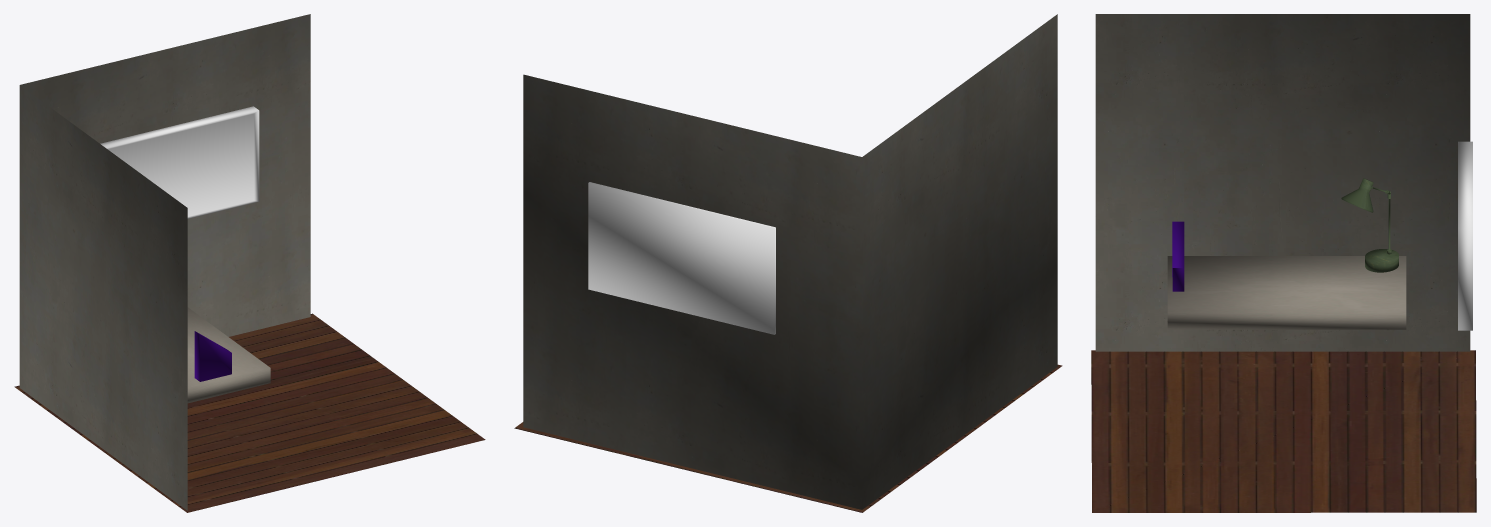
Rendered from world_scene.glb.
3 renders of one model, left to right at view 1: azimuth 30°, elevation 25°; view 2: azimuth 150°, elevation 25°; view 3: azimuth 270°, elevation 25°, orthographic. The views are drawn at different scales.
Parts seen in each view (by area): view 1: room, Plane, board, table, fileHolder; view 2: room, board, Plane; view 3: room, Plane, table, board, Lamp, fileHolder.
Part boxes in pixels (bbox=[...]): room: bbox=[19, 14, 310, 510]; Plane: bbox=[14, 313, 485, 512]; board: bbox=[100, 106, 259, 218]; table: bbox=[187, 307, 270, 403]; fileHolder: bbox=[194, 331, 231, 381]; room: bbox=[523, 14, 1057, 509]; board: bbox=[588, 182, 775, 334]; Plane: bbox=[514, 364, 1062, 512]; room: bbox=[1095, 14, 1470, 351]; Plane: bbox=[1091, 350, 1476, 512]; table: bbox=[1167, 256, 1406, 329]; board: bbox=[1458, 141, 1472, 330]; Lamp: bbox=[1341, 178, 1398, 272]; fileHolder: bbox=[1172, 221, 1184, 291].
Size of the model in its own units: 10.31 by 10.02 by 10.31.
Materials: 5 (4 with a texture image).
